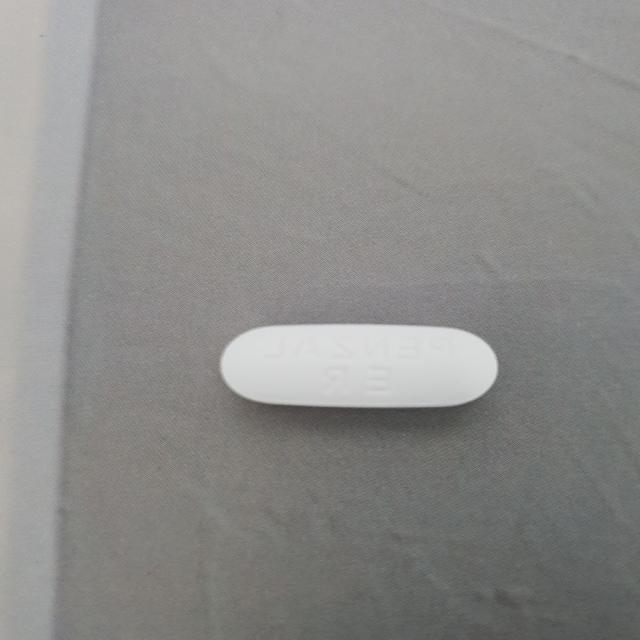pill: (205, 311, 501, 430)
